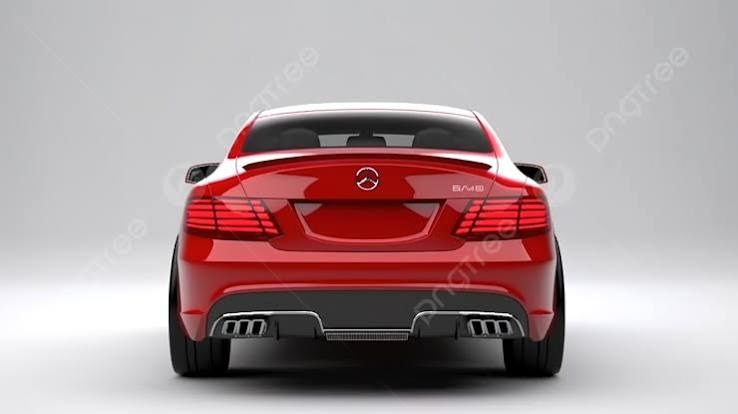car: (156, 98, 564, 382)
